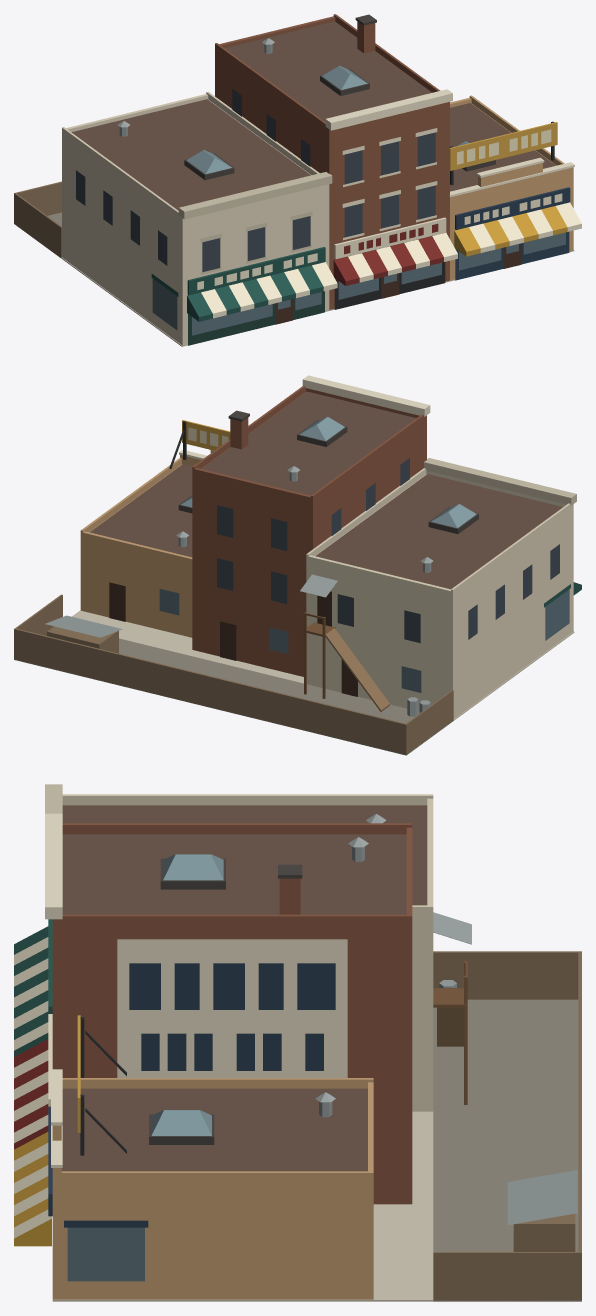
File: highstreet_wg.glb
3 renders of one model, top to bottom at view 1: azimuth 30°, elevation 25°; view 2: azimuth 150°, elevation 25°; view 3: azimuth 270°, elevation 25°, orthographic. The views are drawn at different scales.
Parts seen in each view (by area): view 1: highstreet_wg; view 2: highstreet_wg; view 3: highstreet_wg.
Boxes of the visible parts, x1=… form: highstreet_wg: x1=14, y1=14, x2=581, y2=346; highstreet_wg: x1=14, y1=375, x2=581, y2=755; highstreet_wg: x1=14, y1=784, x2=581, y2=1301.
Size of the model in its own units: 18 by 9.18 by 14.33.
